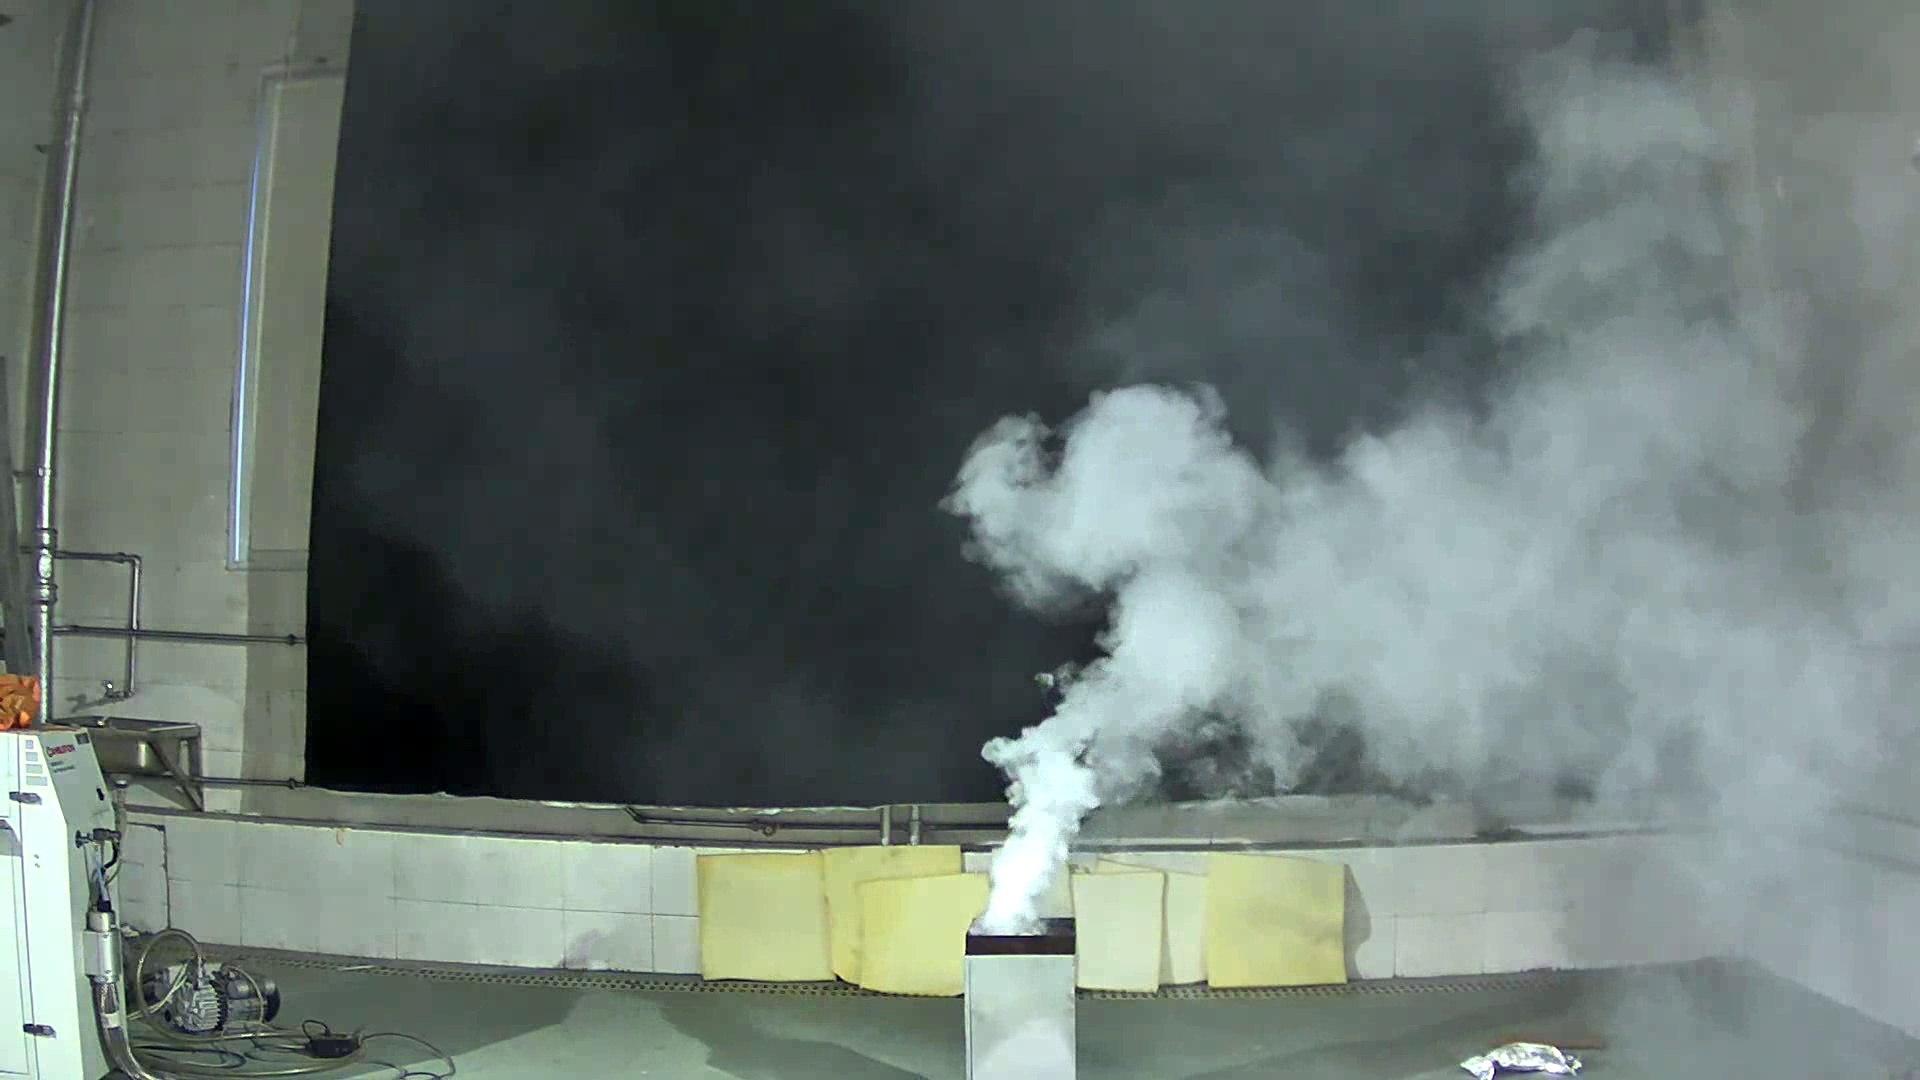smoke: (920, 38, 1779, 926)
